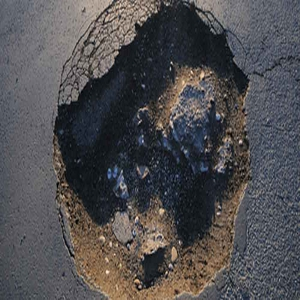pothole: (53, 2, 249, 300)
